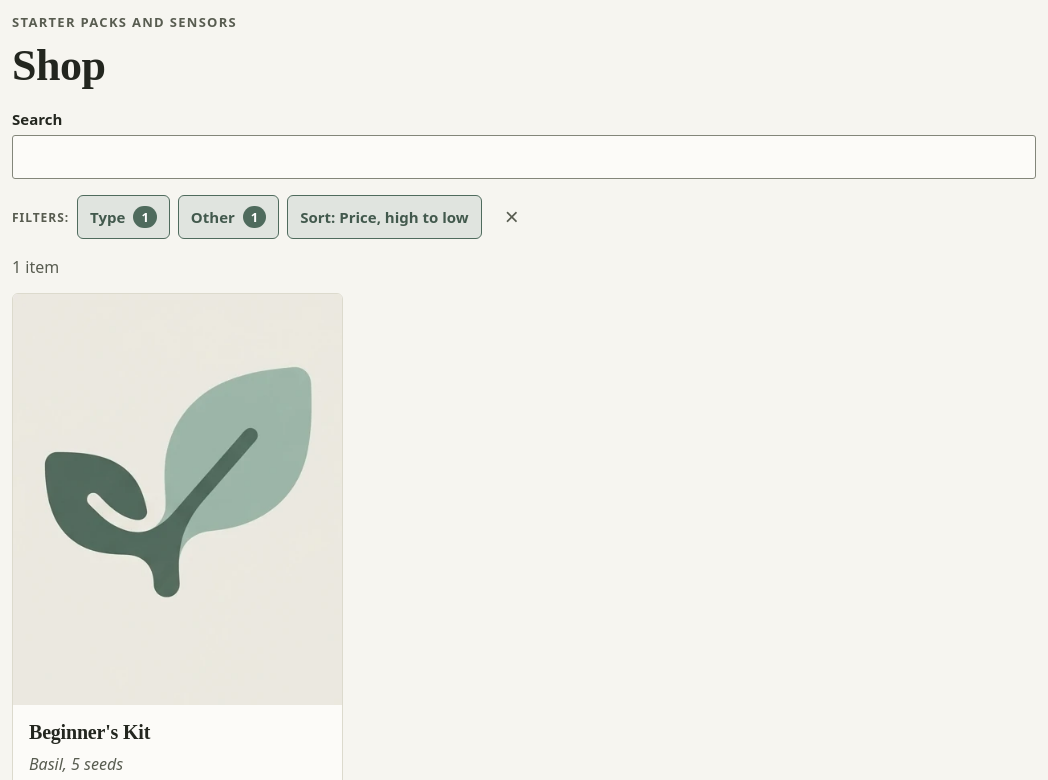
CatalogPage › restores types, needs and sort from the address
expect the heading "Beginner's Kit" is shown: met, box [29,721,150,743]
expect the button "Type 1" is shown: met, box [77,195,170,239]
Click the button "Other 1": click(228, 217) [178,195,279,239]
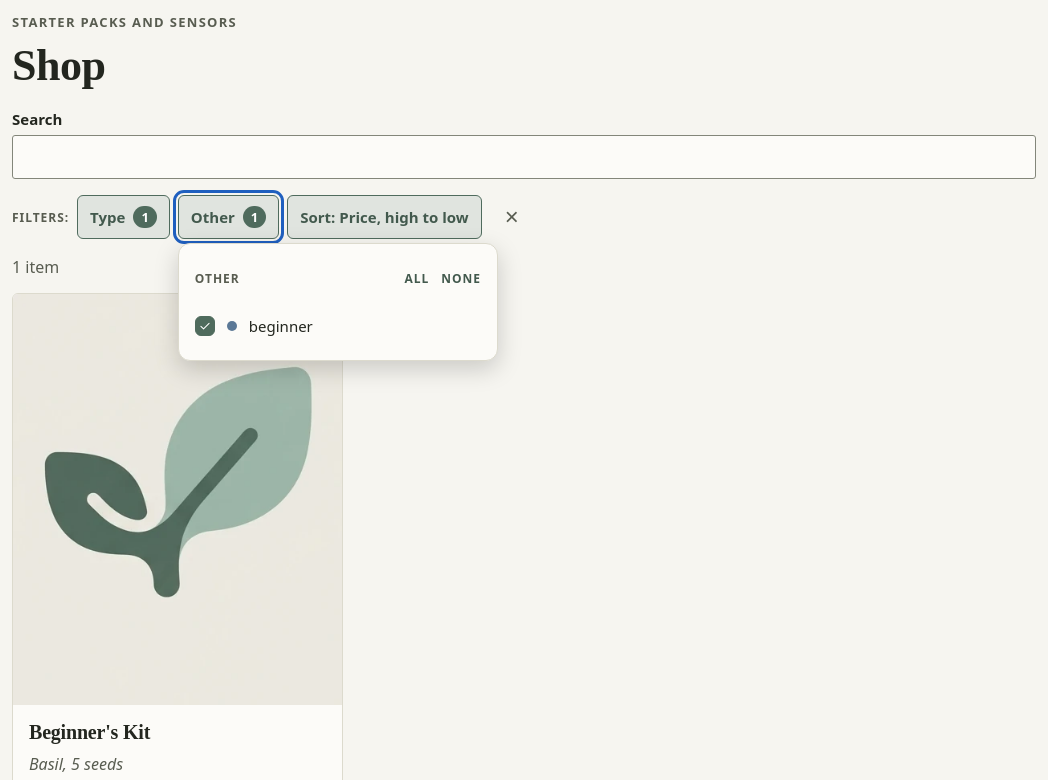
expect the checkbox labelled "beginner" is checked: met, box [195,316,313,336]
